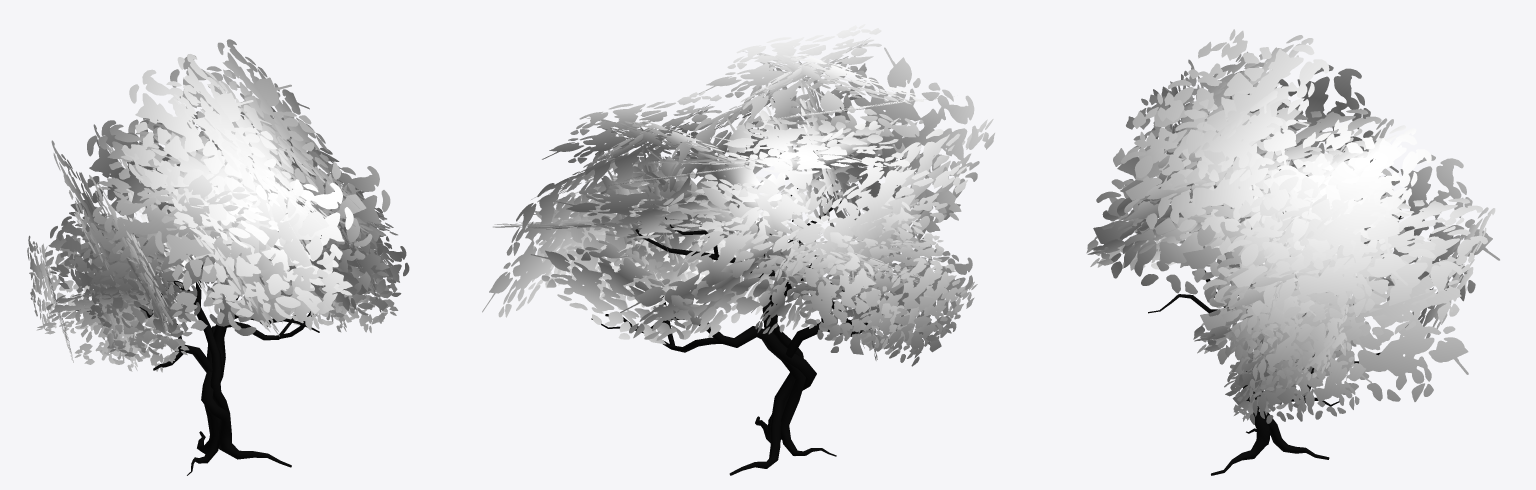
Rendered from BIZZARE_tree3.fbx.
3 views of the same model, side by side, from view 1: azimuth 30°, elevation 25°; view 2: azimuth 150°, elevation 25°; view 3: azimuth 270°, elevation 25° (orthographic). The views are drawn at different scales.
Visible parts, largest first — view 1: Leaves3, Trunk3; view 2: Leaves3, Trunk3; view 3: Leaves3, Trunk3.
Part boxes in pixels (<box>): Leaves3: <box>27,39,409,372</box>; Trunk3: <box>75,265,319,475</box>; Leaves3: <box>482,24,994,366</box>; Trunk3: <box>591,188,884,475</box>; Leaves3: <box>1086,29,1499,424</box>; Trunk3: <box>1148,216,1401,475</box>.
Bounding box in the file's own units: 8.58 × 8.33 × 8.59.
